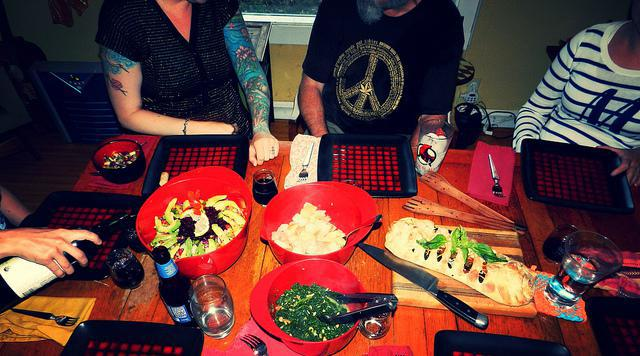hand: (2, 222, 99, 279), (244, 119, 281, 170), (180, 115, 238, 136)
